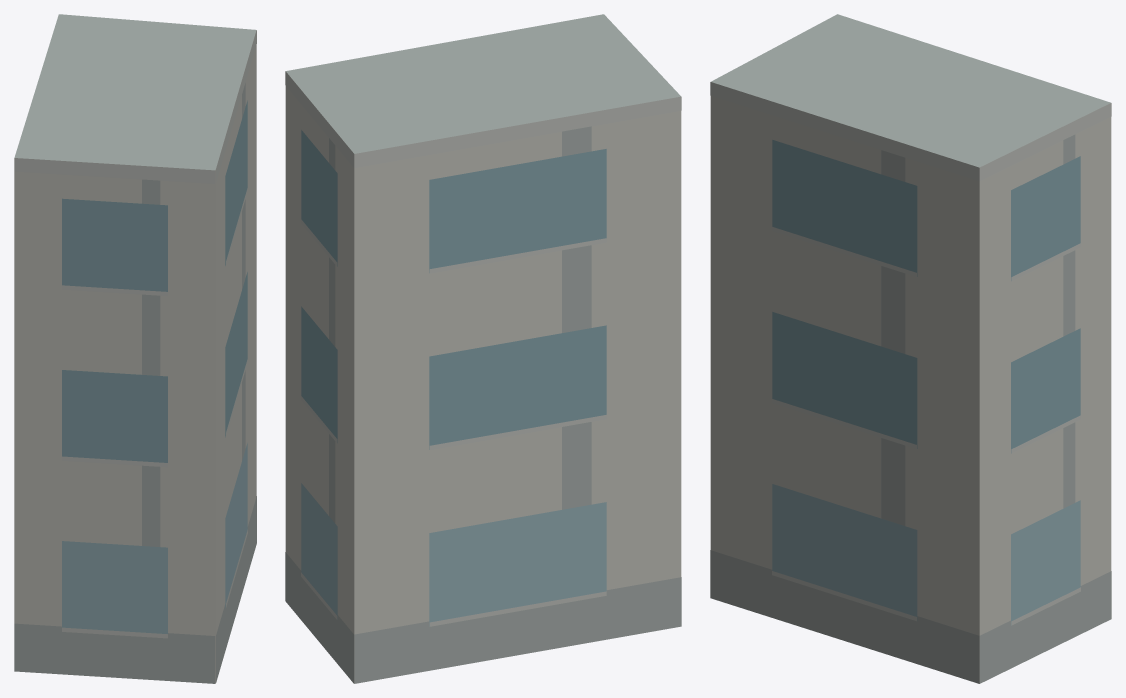
Rendered from survey-upis-32983796.glb.
The picture shows the model from 3 angles, left to right: view 1: azimuth 30°, elevation 25°; view 2: azimuth 150°, elevation 25°; view 3: azimuth 270°, elevation 25°; orthographic projection. The views are drawn at different scales.
Visible parts, largest first — view 1: survey-upis-32983796.tmp; view 2: survey-upis-32983796.tmp; view 3: survey-upis-32983796.tmp.
Boxes of the visible parts, x1,y1,x2,y2 form: survey-upis-32983796.tmp: (14,14,256,683); survey-upis-32983796.tmp: (285,14,681,683); survey-upis-32983796.tmp: (710,14,1111,683).
Bounding box in the file's own units: 5.84 × 9.15 × 6.45.
